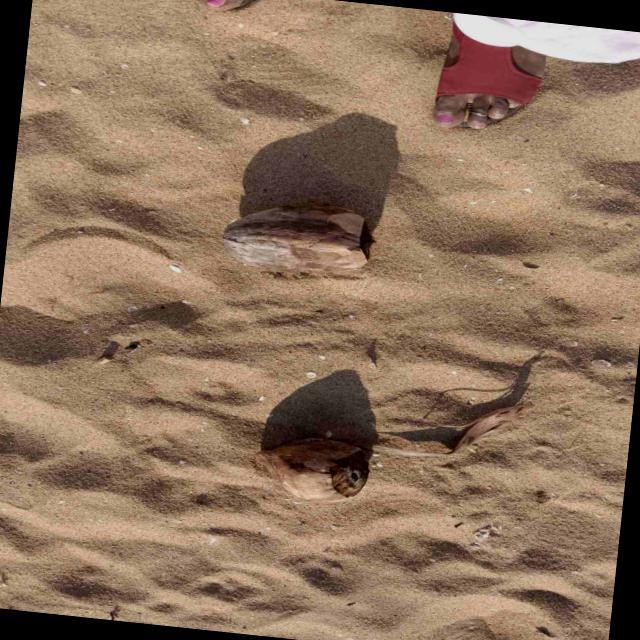rac_huu_co: (221, 204, 373, 271), (255, 438, 368, 503)
